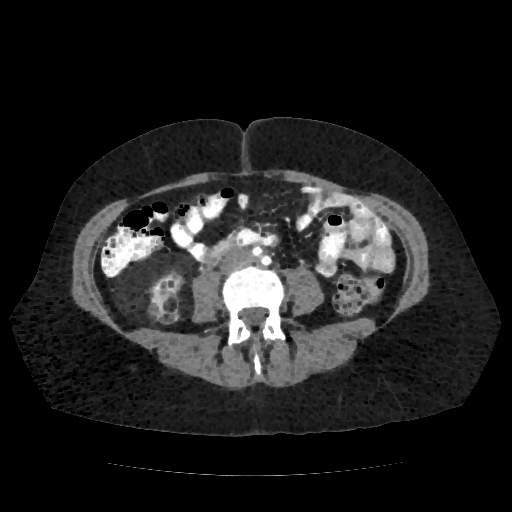Lesion: (103, 259, 194, 328)
